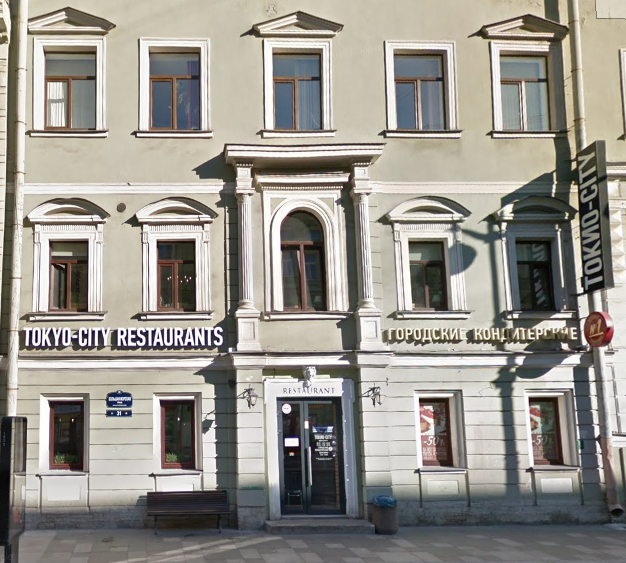cantilever: (568, 138, 618, 307), (580, 309, 617, 348)
door: (275, 396, 347, 520)
signboard: (19, 322, 228, 354), (383, 323, 582, 348)
window: (393, 52, 452, 134), (498, 49, 554, 131), (278, 216, 325, 312), (148, 46, 200, 131), (47, 50, 101, 131), (274, 45, 325, 128), (406, 238, 452, 315), (414, 393, 459, 468), (513, 238, 558, 312), (155, 238, 196, 315), (45, 396, 85, 470), (531, 397, 571, 469), (48, 238, 87, 310), (161, 398, 195, 471)
